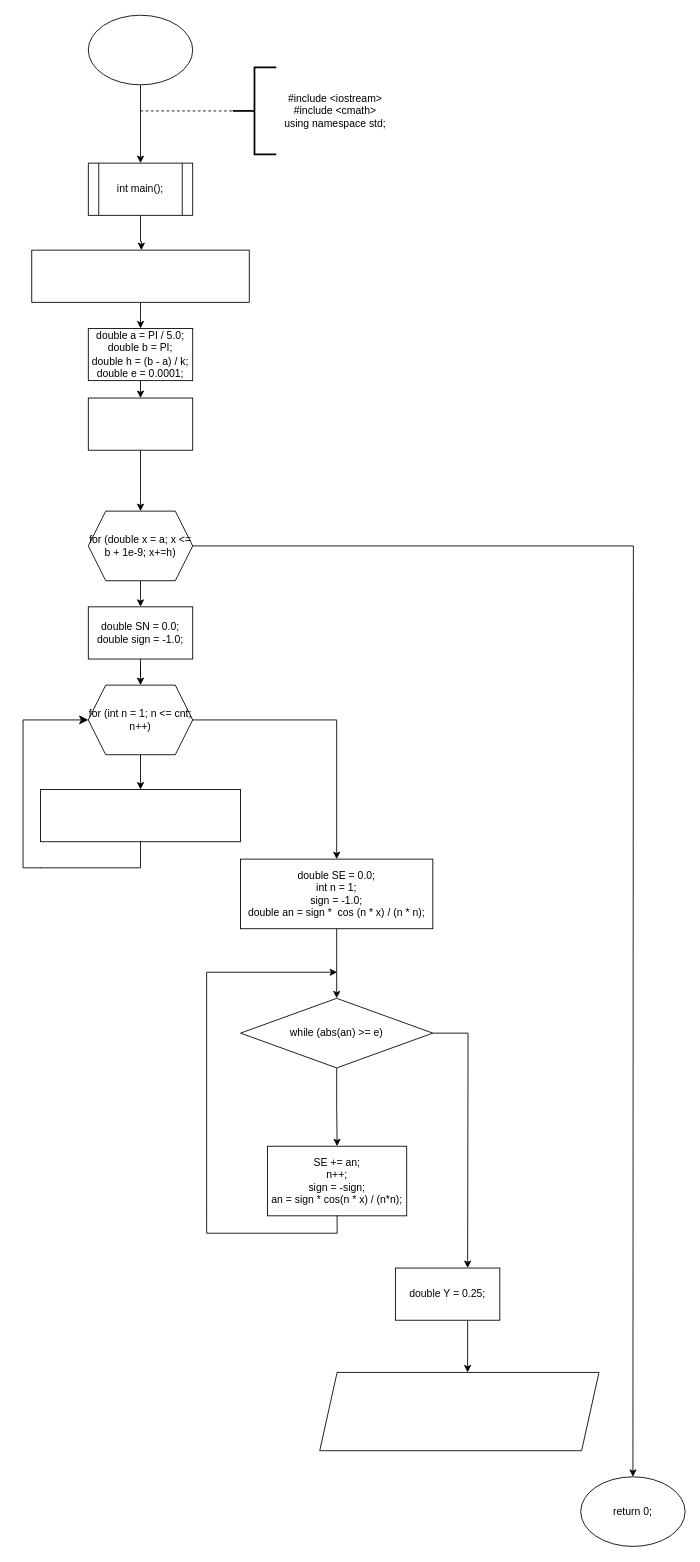
This 700x1562 diagram has some shape labels left out. Each missing label, with the centre of its shape:
const double PI = 3.141592653589793;: pixel 140 275
cout << "X=" << x << " SN=" << SN << " SE=" << SE << " Y=" << Y << endl ;: pixel 459 1411
double an = sign * cos(n * x) / (n * n); SN += an; sign = -sign;: pixel 140 815
int k = 10; int cnt = 20;: pixel 140 423
начало: pixel 140 49
